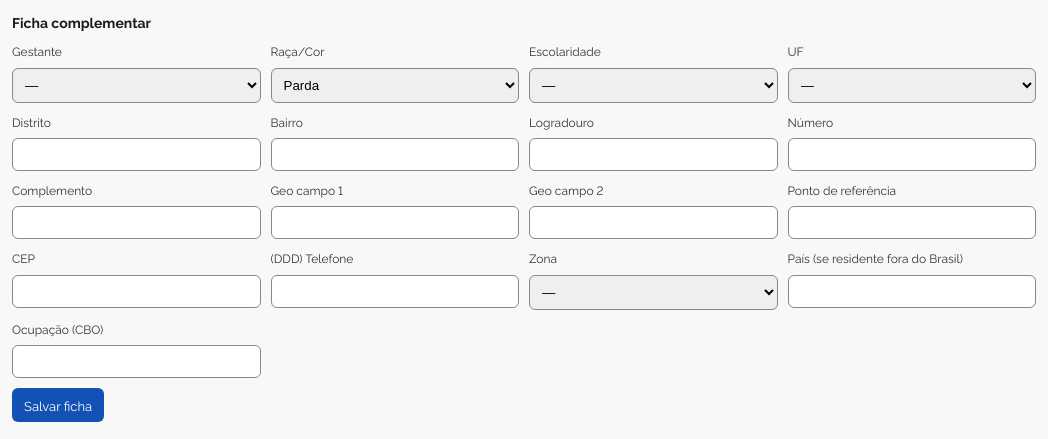
Test: NotificationFormSection › salva a ficha inteira com a versão; limpa o que ficou vazio; zero à esquerda fica
Step 1. Type "01310100" into the field labelled "CEP" → (136, 291), box [12,275,260,308]
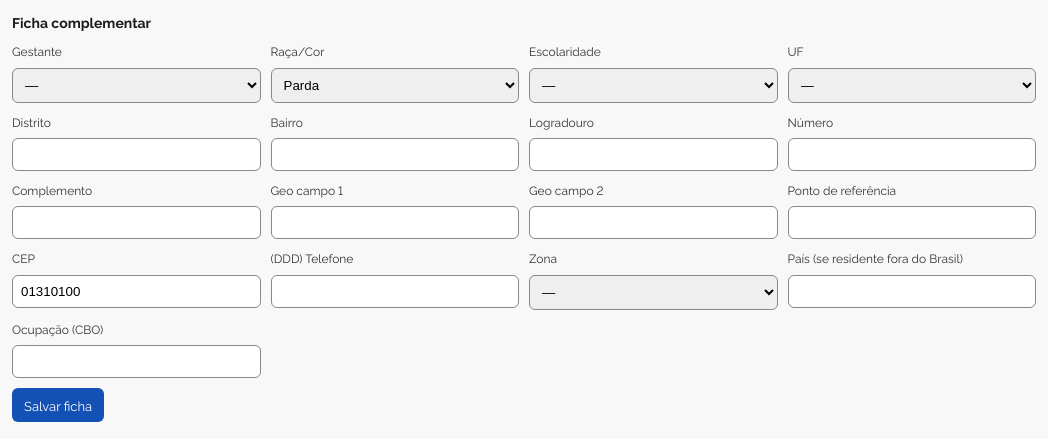
Step 2. Select "Urbana" in the dropdown labelled "Zona" → (653, 292), box [529,275,778,310]
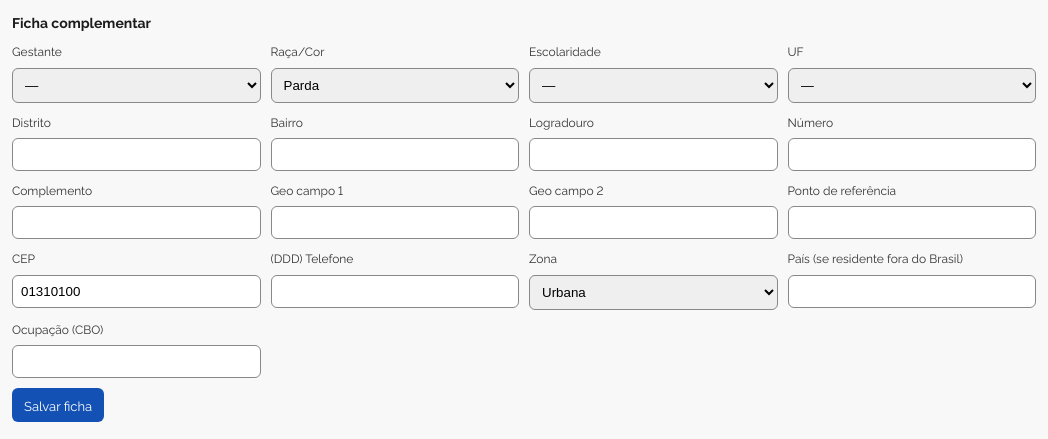
Step 3. Click the button "Salvar ficha" → (58, 405), box [12,388,104,422]
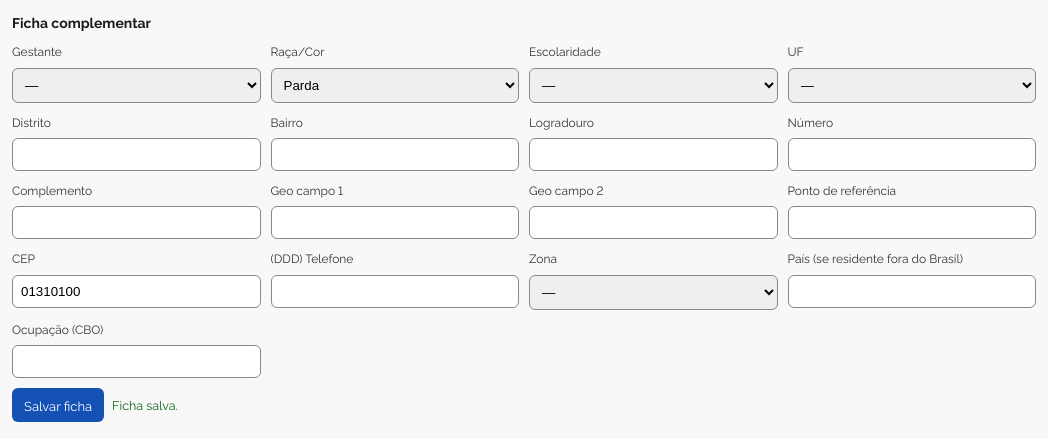
Result: the message reads "Ficha salva." at [112,396,178,413]
